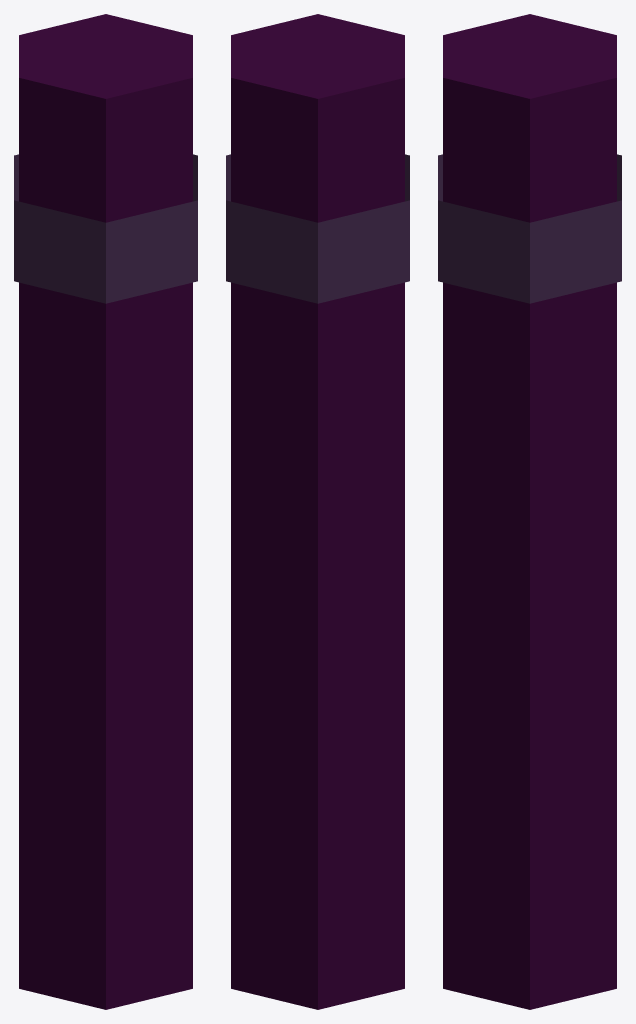
Rendered from bollard.glb.
3 renders of one model, left to right at view 1: azimuth 30°, elevation 25°; view 2: azimuth 150°, elevation 25°; view 3: azimuth 270°, elevation 25°, orthographic.
Visible parts, largest first — view 1: bollard; view 2: bollard; view 3: bollard.
Boxes of the visible parts, <box> form: bollard: <box>14,14,197,1009</box>; bollard: <box>226,14,409,1009</box>; bollard: <box>438,14,621,1009</box>.
Size of the model in its own units: 0.19 by 0.9 by 0.1646.
